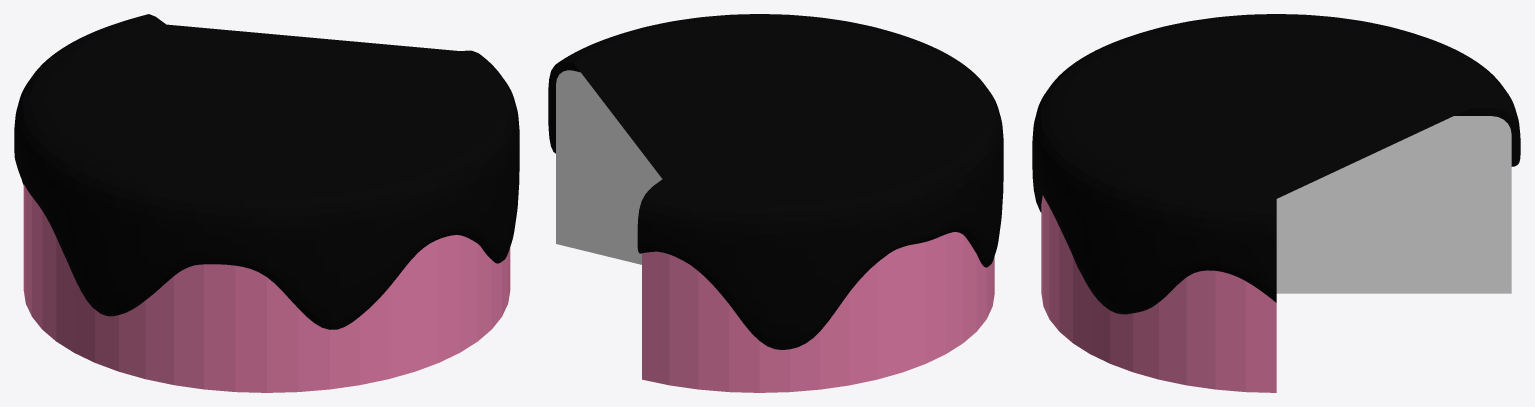
Rendered from cake.fbx.
3 renders of one model, left to right at view 1: azimuth 30°, elevation 25°; view 2: azimuth 150°, elevation 25°; view 3: azimuth 270°, elevation 25°, orthographic. The views are drawn at different scales.
Visible parts, largest first — view 1: Cylinder.003; view 2: Cylinder.003; view 3: Cylinder.003.
Boxes of the visible parts, x1,y1,x2,y2 form: Cylinder.003: [14, 14, 519, 392]; Cylinder.003: [548, 14, 1003, 392]; Cylinder.003: [1032, 14, 1520, 392].
Size of the model in its own units: 49.86 by 20.9 by 49.86.
